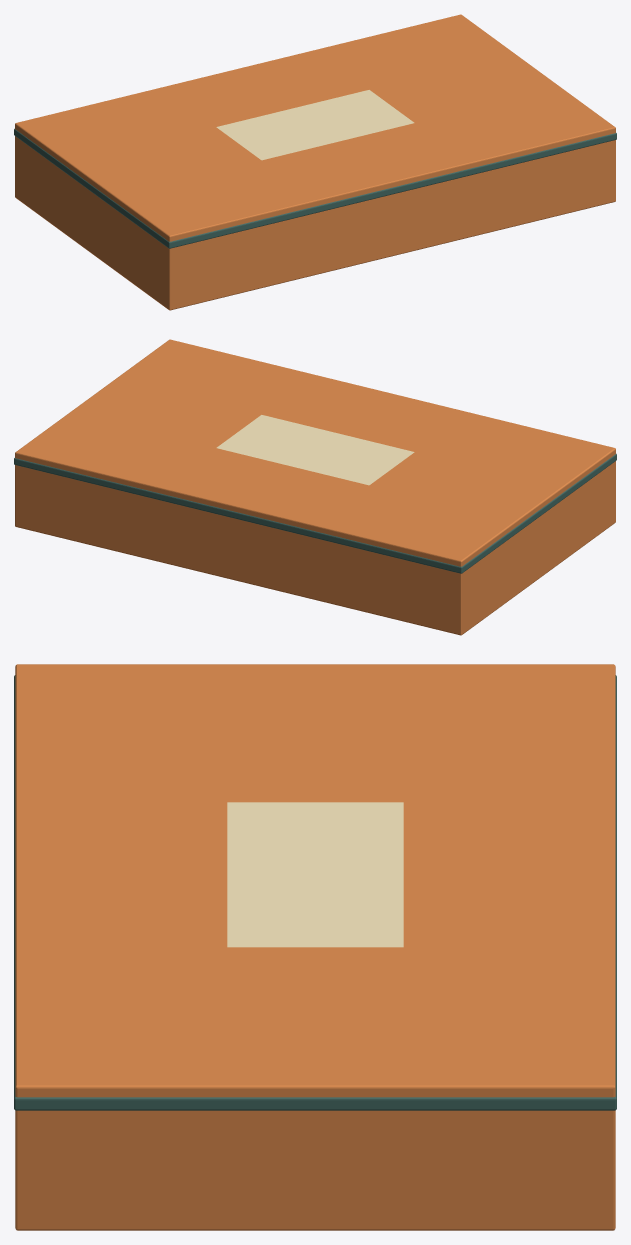
Rendered from caseboxLarge.glb.
3 renders of one model, top to bottom at view 1: azimuth 30°, elevation 25°; view 2: azimuth 150°, elevation 25°; view 3: azimuth 270°, elevation 25°, orthographic. The views are drawn at different scales.
Parts seen in each view (by area): view 1: caseboxLarge; view 2: caseboxLarge; view 3: caseboxLarge.
Boxes of the visible parts, bbox=[...] form: caseboxLarge: bbox=[14, 14, 616, 310]; caseboxLarge: bbox=[14, 339, 616, 635]; caseboxLarge: bbox=[14, 664, 616, 1230].
Size of the model in its own units: 0.2006 by 0.032 by 0.1206.
